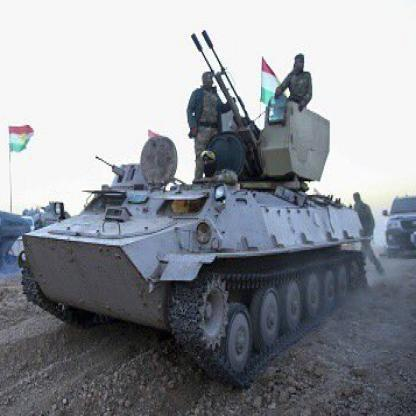MIL_IFV: (19, 103, 376, 391)
